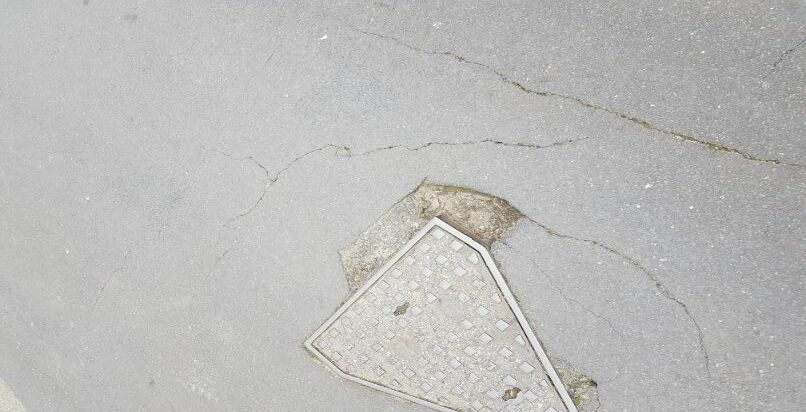pothole: (335, 172, 528, 308)
